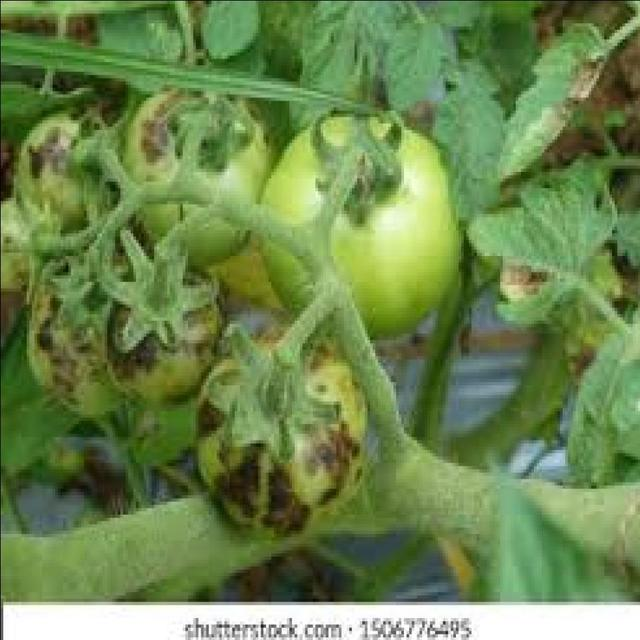Spotted wilt Virus Fruit: (42, 93, 188, 292)
